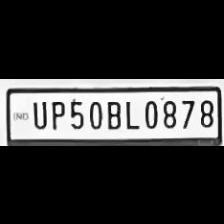0: (140, 96, 160, 127), (85, 96, 103, 128)
5: (66, 96, 86, 130)
7: (178, 96, 196, 128)
8: (158, 96, 178, 128), (195, 96, 215, 127)
B: (104, 96, 122, 128)
L: (122, 96, 139, 128)
P: (46, 96, 66, 128)
U: (28, 96, 48, 128)
